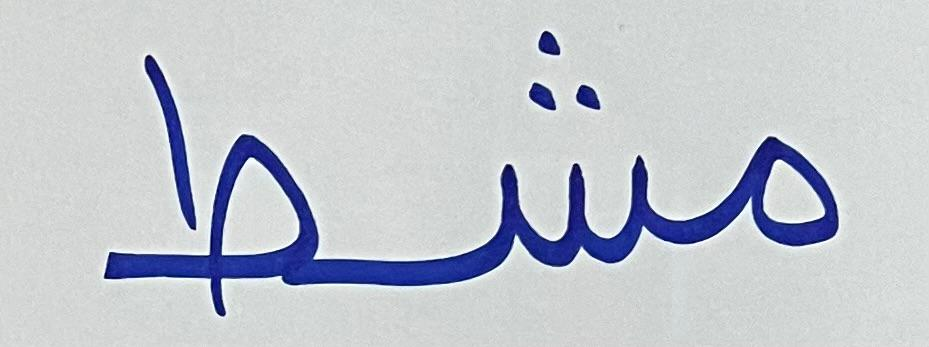meem: (671, 120, 851, 261)
sheen: (398, 28, 665, 290)
tah: (90, 46, 389, 313)
